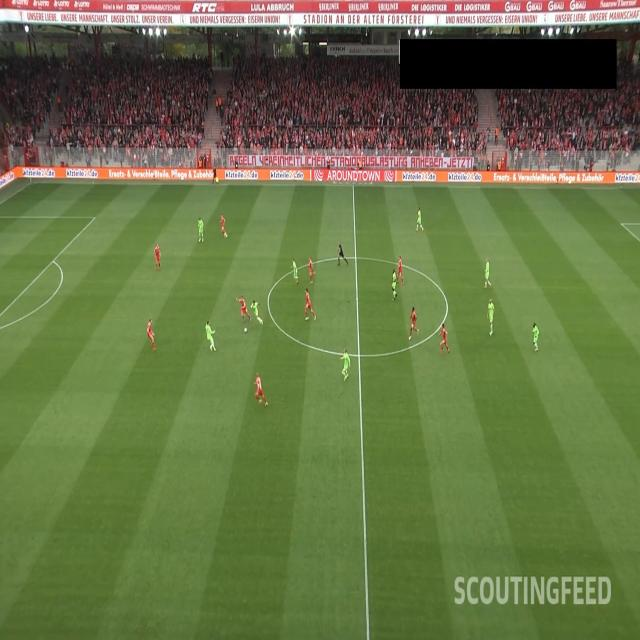ball: (244, 327, 248, 334)
